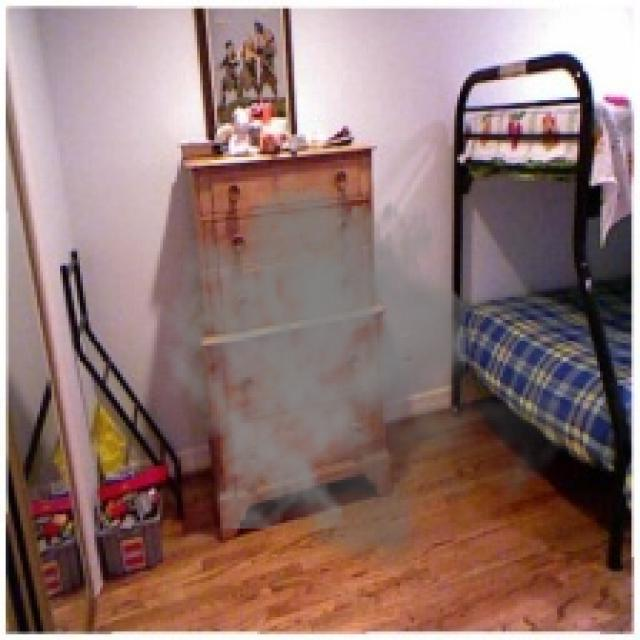Smoke: (155, 157, 580, 580)
